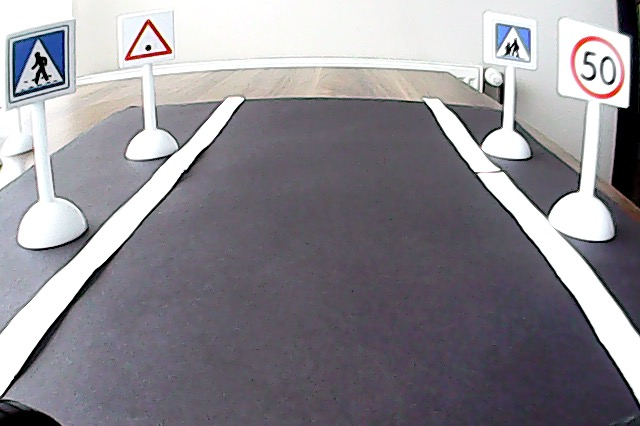green light: (120, 15, 175, 65)
pedestrian crossing: (7, 24, 72, 105)
school crossing: (489, 16, 536, 67)
speed limit 50: (566, 31, 627, 102)
